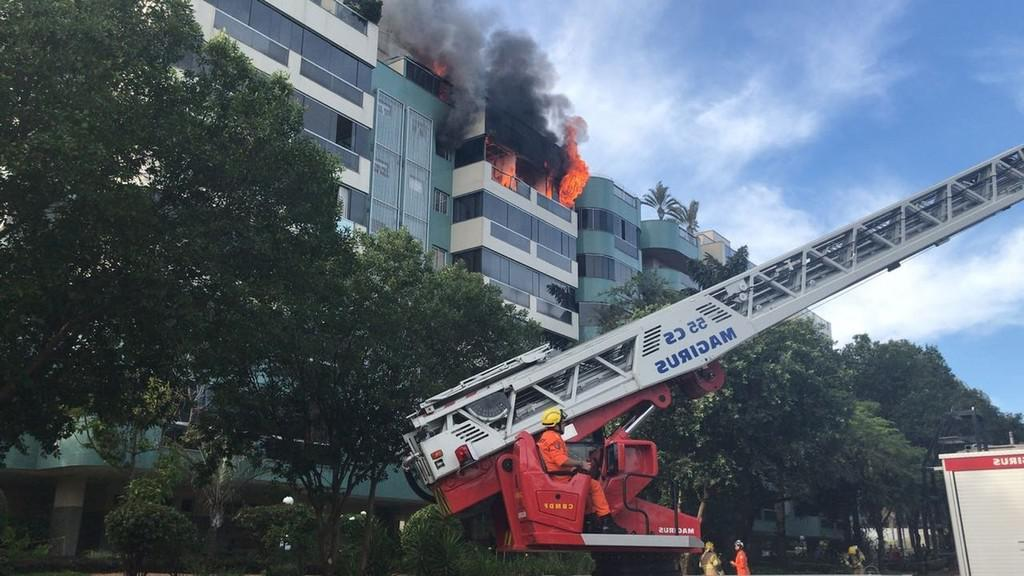Fire: (547, 130, 592, 198)
